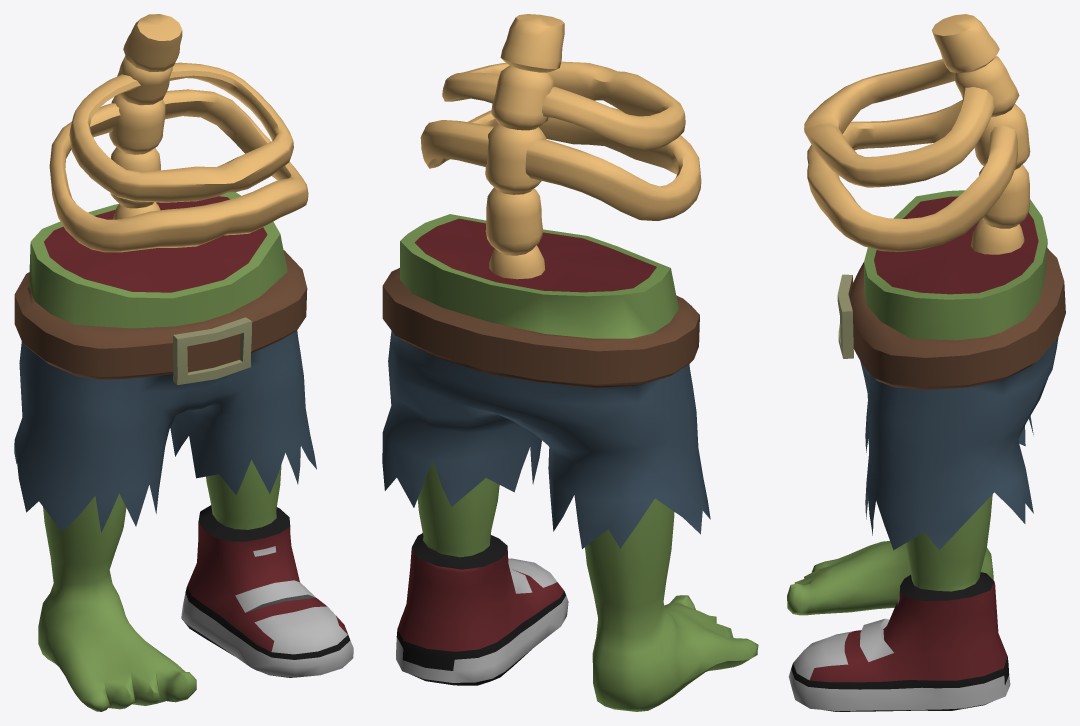
The model's file is cc0-zombie-ribcage-lod0.glb.
The picture shows the model from 3 angles, left to right: view 1: azimuth 30°, elevation 25°; view 2: azimuth 150°, elevation 25°; view 3: azimuth 270°, elevation 25°; orthographic projection. The views are drawn at different scales.
Parts seen in each view (by area): view 1: part_11; view 2: part_11; view 3: part_11.
Part boxes in pixels (x1,y1,x2,y2): part_11: [14, 14, 353, 711]; part_11: [382, 14, 758, 711]; part_11: [787, 14, 1065, 711].
Size of the model in its own units: 0.5066 by 1.06 by 0.4251.
Materials: 1 (1 with a texture image).
